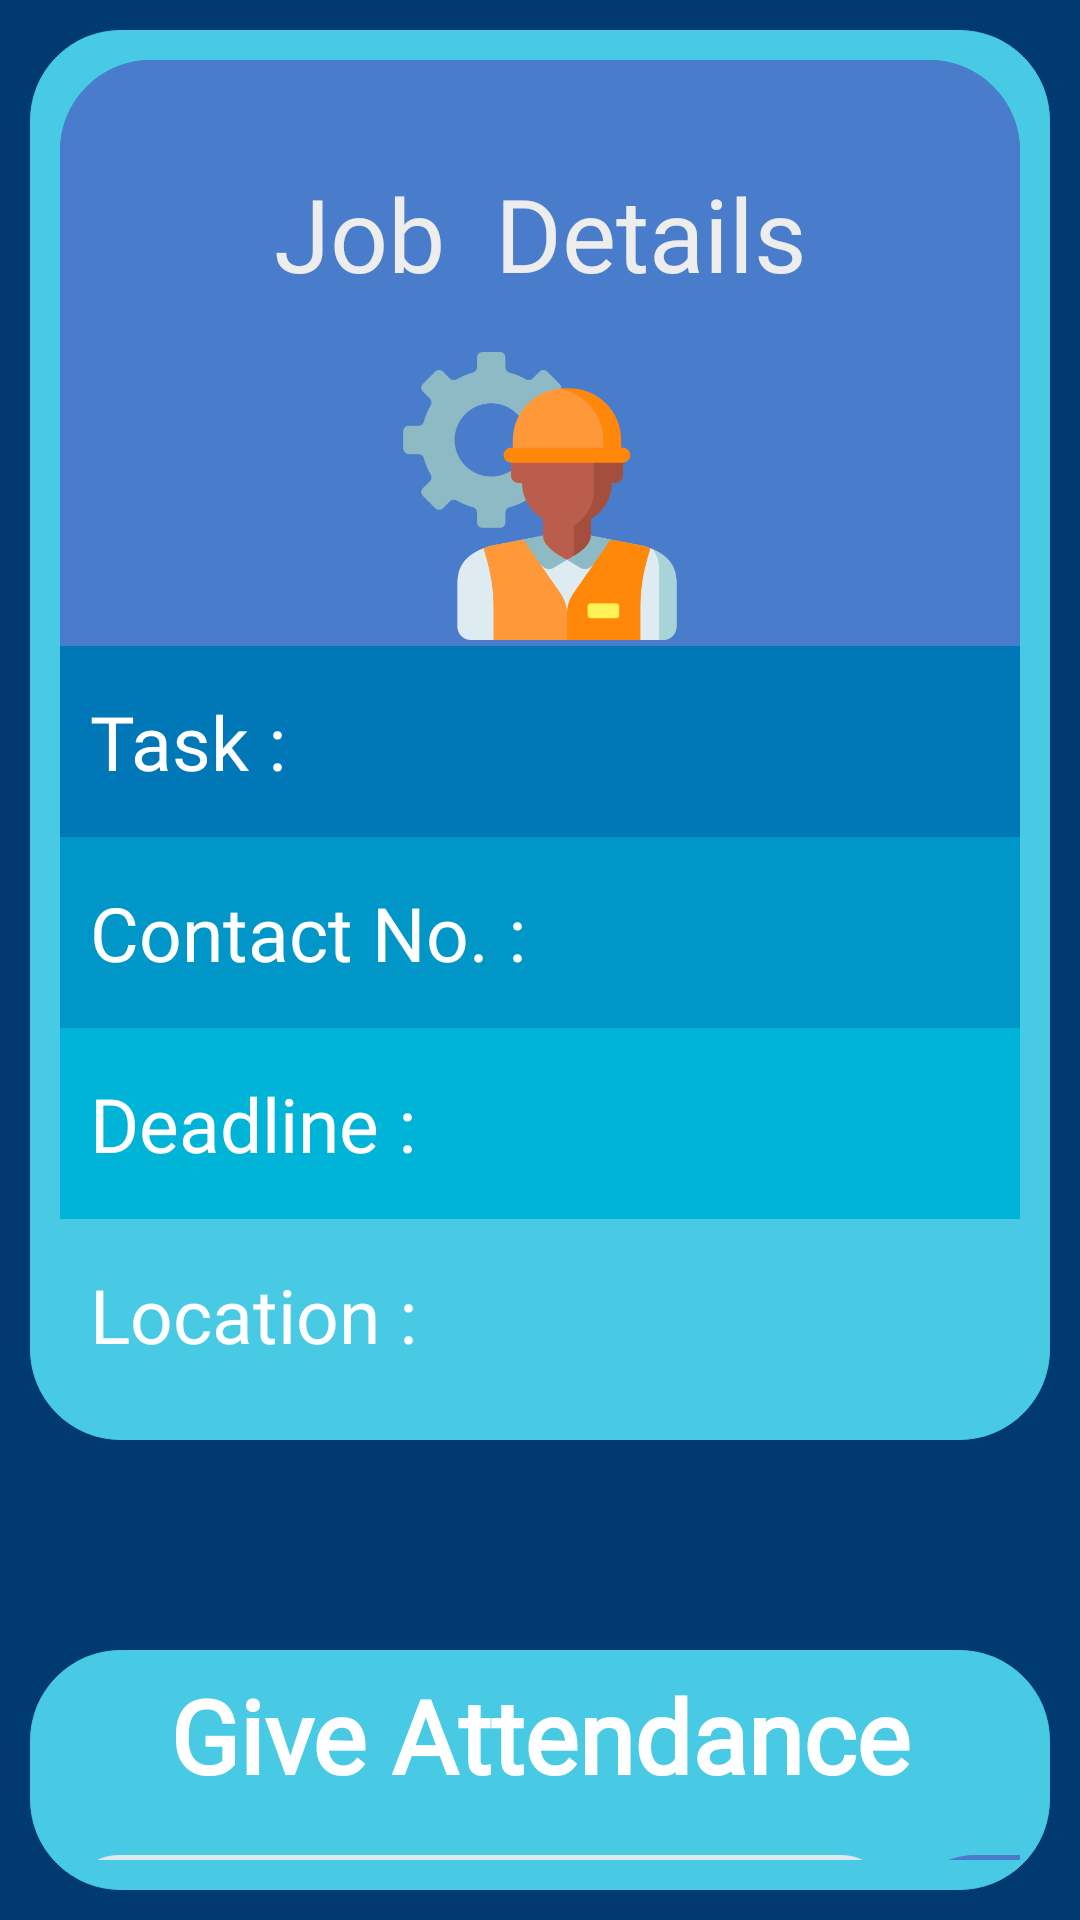

Where to tap for icons on this 1080w x 1920h app screen, as [x,y]:
workericon: [540,496]
